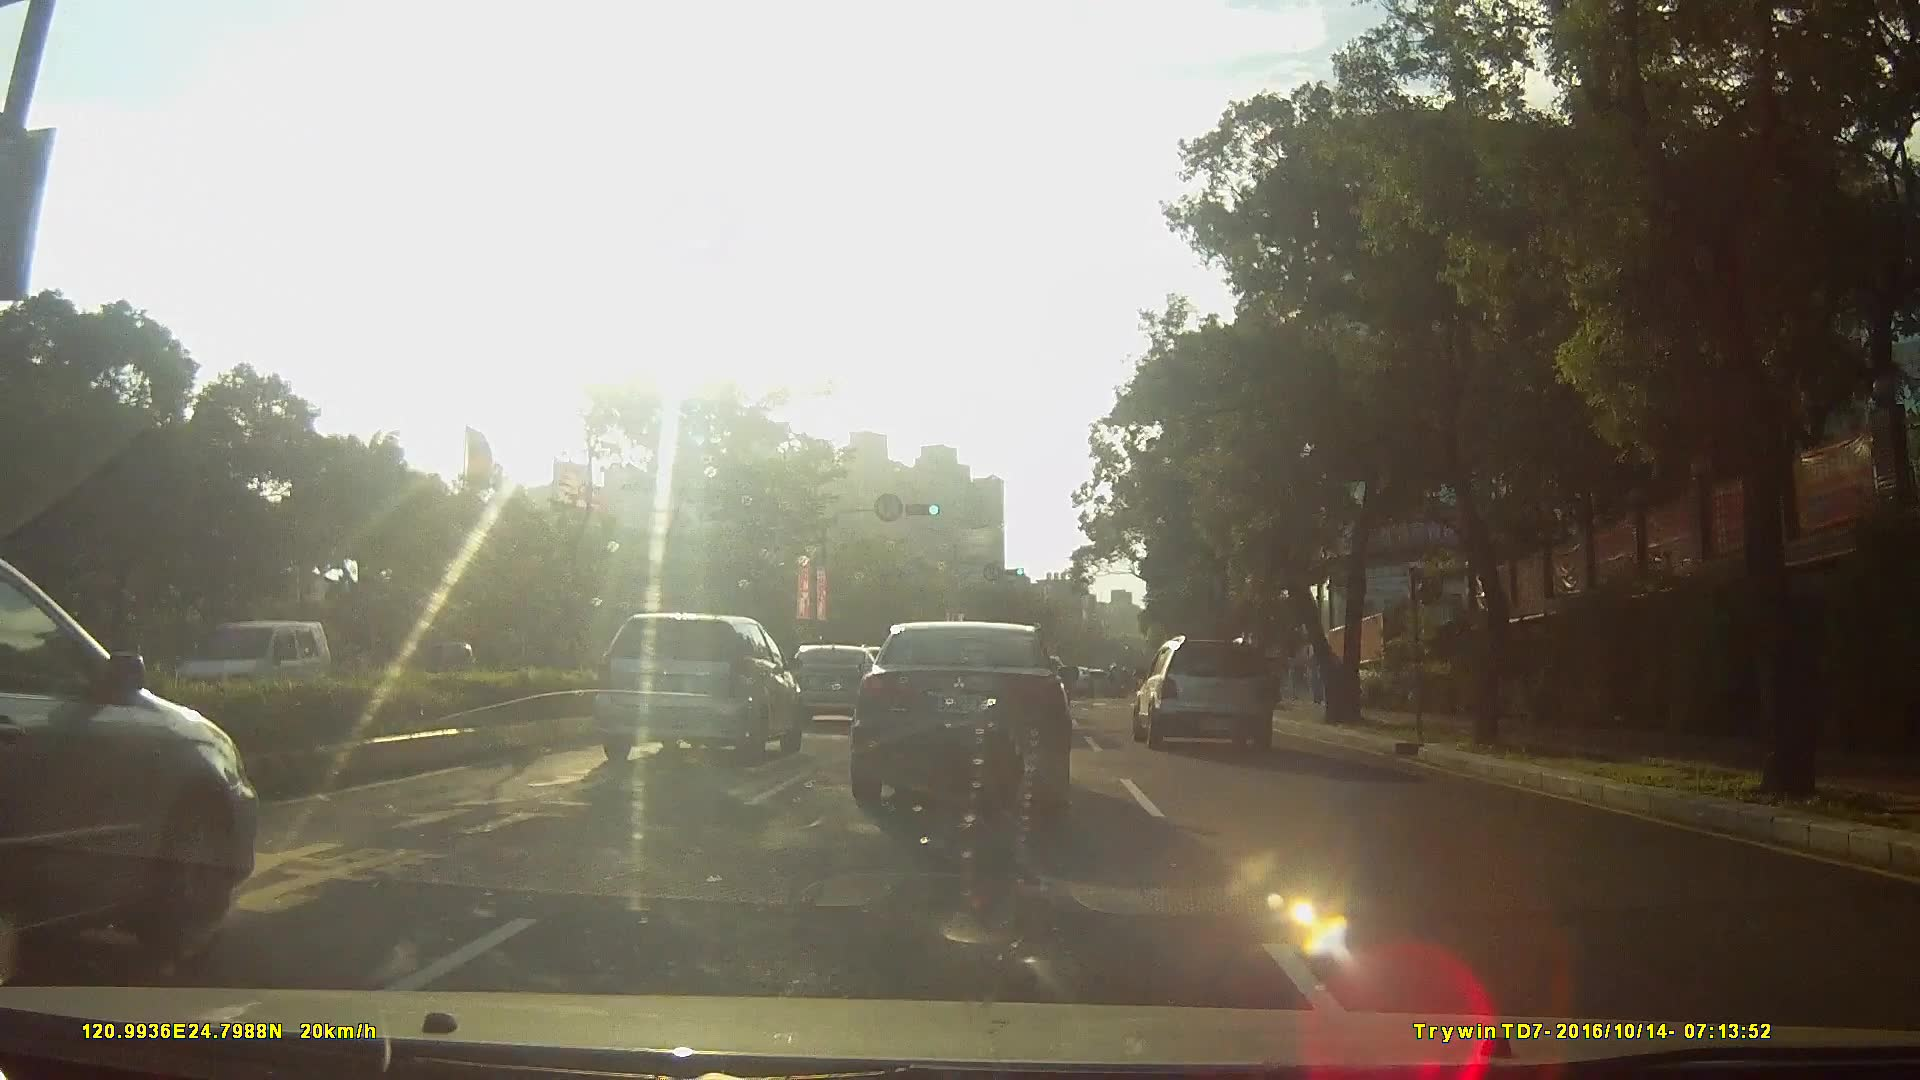vehicle: (1, 546, 285, 993), (851, 615, 1076, 816), (585, 607, 800, 760), (1131, 626, 1290, 744), (138, 615, 301, 712), (778, 640, 891, 721), (1073, 662, 1108, 694)
